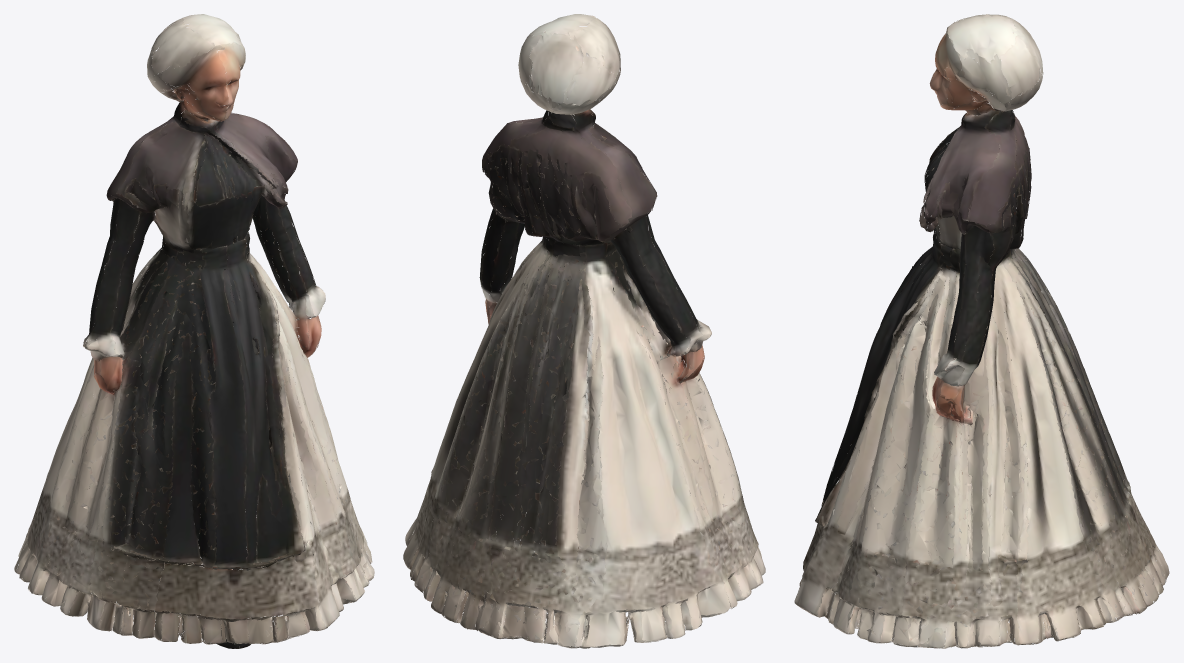
File: char_old_f_bonnet.glb
3 views of the same model, side by side, from view 1: azimuth 30°, elevation 25°; view 2: azimuth 150°, elevation 25°; view 3: azimuth 270°, elevation 25° (orthographic). The views are drawn at different scales.
Parts seen in each view (by area): view 1: geometry_0; view 2: geometry_0; view 3: geometry_0.
Part boxes in pixels (bbox=[...]): geometry_0: bbox=[14, 14, 374, 648]; geometry_0: bbox=[403, 14, 765, 648]; geometry_0: bbox=[794, 14, 1169, 648].
Size of the model in its own units: 0.9478 by 1.7 by 0.9482.
Materials: 1 (1 with a texture image).
